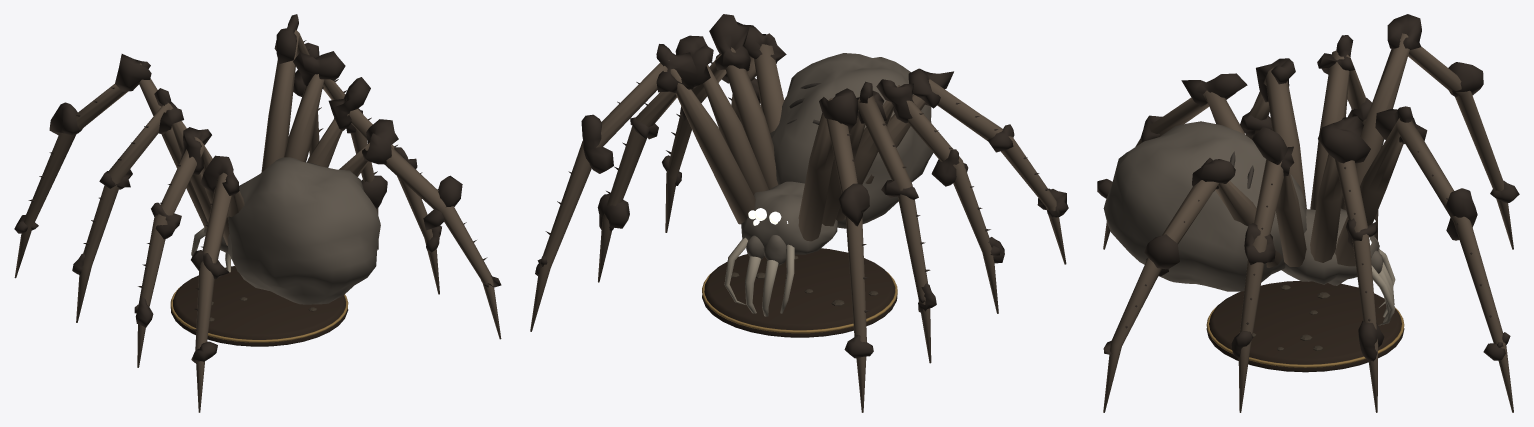
Rendered from ryytaa.glb.
3 views of the same model, side by side, from view 1: azimuth 30°, elevation 25°; view 2: azimuth 150°, elevation 25°; view 3: azimuth 270°, elevation 25° (orthographic). The views are drawn at different scales.
Parts seen in each view (by area): view 1: Torso, Base, Leg0L, Leg3R, Leg3L, Leg1L, Leg2L, Leg1R, Leg0R, Leg2R; view 2: Torso, Base, Leg0R, Leg0L, Leg1R, Leg2R, Leg1L, Leg2L, Leg3L, Leg3R; view 3: Torso, Base, Leg0R, Leg1R, Leg0L, Leg2R, Leg3R, Leg2L, Leg1L, Leg3L.
Boxes of the visible parts, x1=… form: Torso: x1=191, y1=157, x2=380, y2=304; Base: x1=170, y1=266, x2=348, y2=346; Leg0L: x1=14, y1=54, x2=207, y2=278; Leg3R: x1=339, y1=119, x2=501, y2=339; Leg3L: x1=191, y1=155, x2=244, y2=412; Leg1L: x1=72, y1=88, x2=211, y2=322; Leg2L: x1=134, y1=127, x2=229, y2=367; Leg1R: x1=284, y1=51, x2=387, y2=249; Leg0R: x1=261, y1=14, x2=323, y2=172; Leg2R: x1=307, y1=77, x2=441, y2=294; Torso: x1=724, y1=53, x2=933, y2=316; Base: x1=702, y1=248, x2=897, y2=337; Leg0R: x1=530, y1=44, x2=755, y2=331; Leg0L: x1=798, y1=88, x2=873, y2=412; Leg1R: x1=597, y1=35, x2=768, y2=282; Leg2R: x1=662, y1=14, x2=778, y2=232; Leg1L: x1=822, y1=81, x2=936, y2=363; Leg2L: x1=836, y1=79, x2=1004, y2=313; Leg3L: x1=865, y1=68, x2=1068, y2=264; Leg3R: x1=715, y1=24, x2=786, y2=132; Torso: x1=1103, y1=121, x2=1395, y2=325; Base: x1=1206, y1=281, x2=1404, y2=372; Leg0R: x1=1335, y1=106, x2=1513, y2=412; Leg1R: x1=1310, y1=116, x2=1384, y2=412; Leg0L: x1=1341, y1=14, x2=1519, y2=249; Leg2R: x1=1231, y1=127, x2=1306, y2=412; Leg3R: x1=1103, y1=158, x2=1282, y2=412; Leg2L: x1=1240, y1=58, x2=1306, y2=208; Leg1L: x1=1310, y1=35, x2=1378, y2=239; Leg3L: x1=1097, y1=73, x2=1247, y2=249.
Size of the model in its own units: 2.56 by 1.91 by 2.71.
